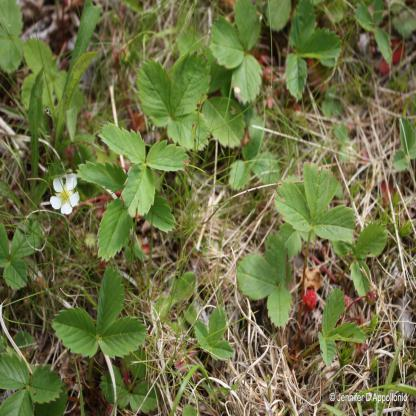Strawberry leaf: (114, 161, 160, 233), (98, 312, 163, 361), (92, 250, 128, 334), (93, 116, 145, 173), (49, 306, 103, 360), (146, 139, 190, 178)
